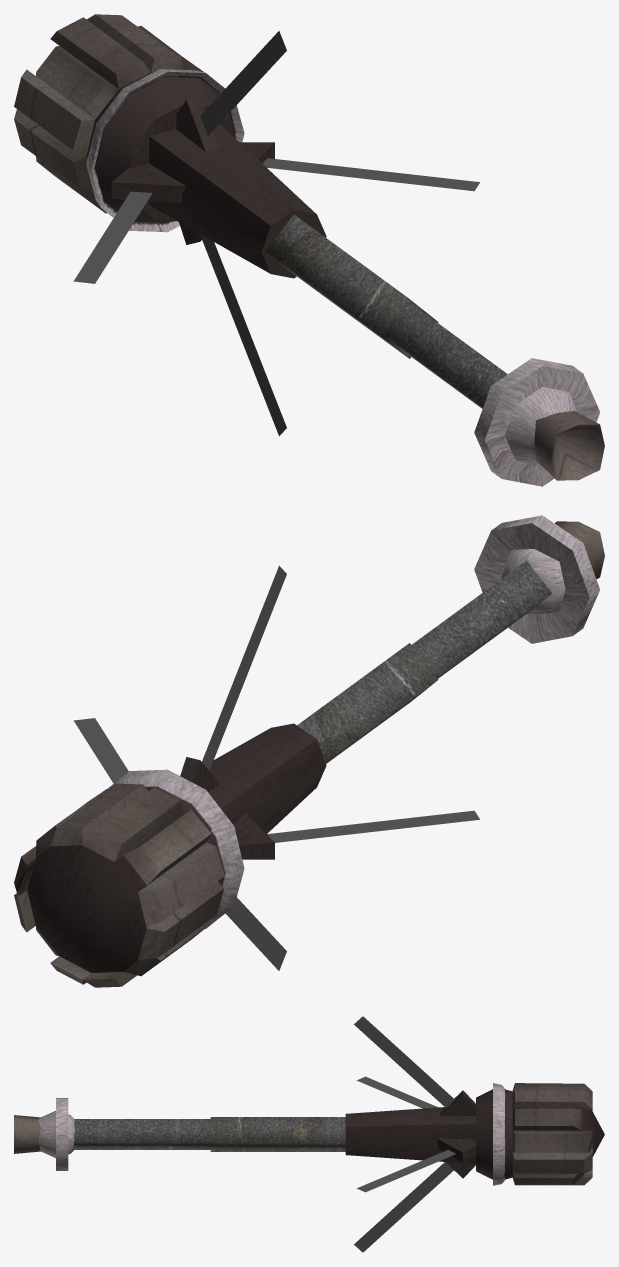
File: slinkrocket.gltf
3 renders of one model, top to bottom at view 1: azimuth 30°, elevation 25°; view 2: azimuth 150°, elevation 25°; view 3: azimuth 270°, elevation 25°, orthographic. The views are drawn at different scales.
Visible parts, largest first — view 1: RocketBody, RocketSteer, RocketTube1, rocketTube2, RocketFinsVertical, RocketFinsHorizontal, RocketFinsHolder; view 2: RocketBody, RocketSteer, RocketTube1, rocketTube2, RocketFinsVertical, RocketFinsHorizontal, RocketFinsHolder; view 3: RocketBody, RocketTube1, rocketTube2, RocketFinsVertical, RocketSteer, RocketFinsHolder, RocketFinsHorizontal.
Boxes of the visible parts, box(x1,y1,x2,y2) form: RocketBody: box(14, 14, 326, 278); RocketSteer: box(474, 358, 604, 486); RocketTube1: box(265, 214, 438, 358); rocketTube2: box(384, 302, 507, 408); RocketFinsVertical: box(200, 31, 286, 436); RocketFinsHorizontal: box(73, 158, 479, 283); RocketFinsHolder: box(111, 96, 274, 244); RocketBody: box(14, 723, 326, 987); RocketSteer: box(474, 515, 604, 643); RocketTube1: box(297, 643, 438, 763); rocketTube2: box(412, 560, 552, 678); RocketFinsVertical: box(202, 565, 286, 970); RocketFinsHorizontal: box(73, 718, 479, 842); RocketFinsHolder: box(180, 757, 274, 859); RocketBody: box(345, 1083, 604, 1185); RocketTube1: box(210, 1117, 345, 1151); rocketTube2: box(74, 1119, 210, 1149); RocketFinsVertical: box(354, 1016, 454, 1252); RocketSteer: box(14, 1098, 74, 1170); RocketFinsHolder: box(436, 1090, 476, 1178); RocketFinsHorizontal: box(356, 1076, 455, 1192).
Size of the model in its own units: 0.2104 by 0.2006 by 0.4538.
Materials: 2 (1 with a texture image).
